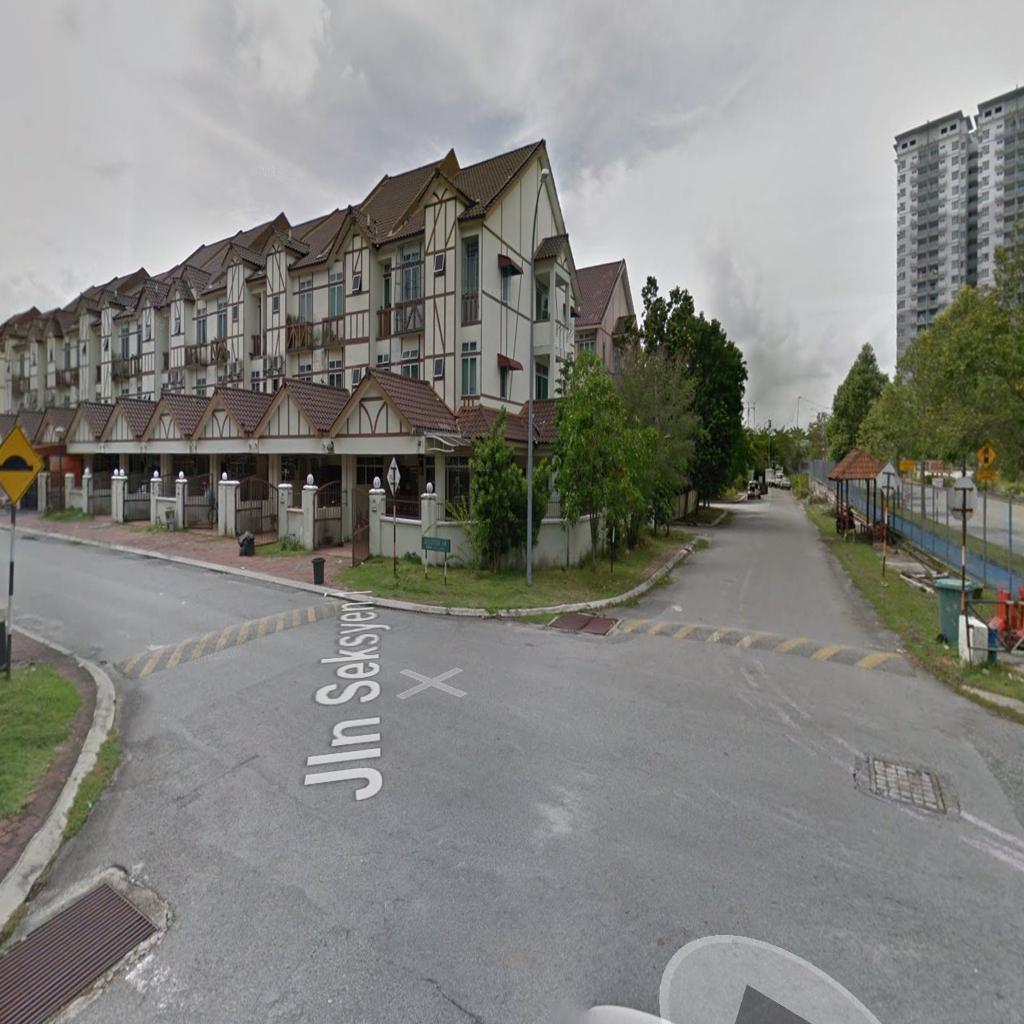Junction: (27, 530, 553, 883)
